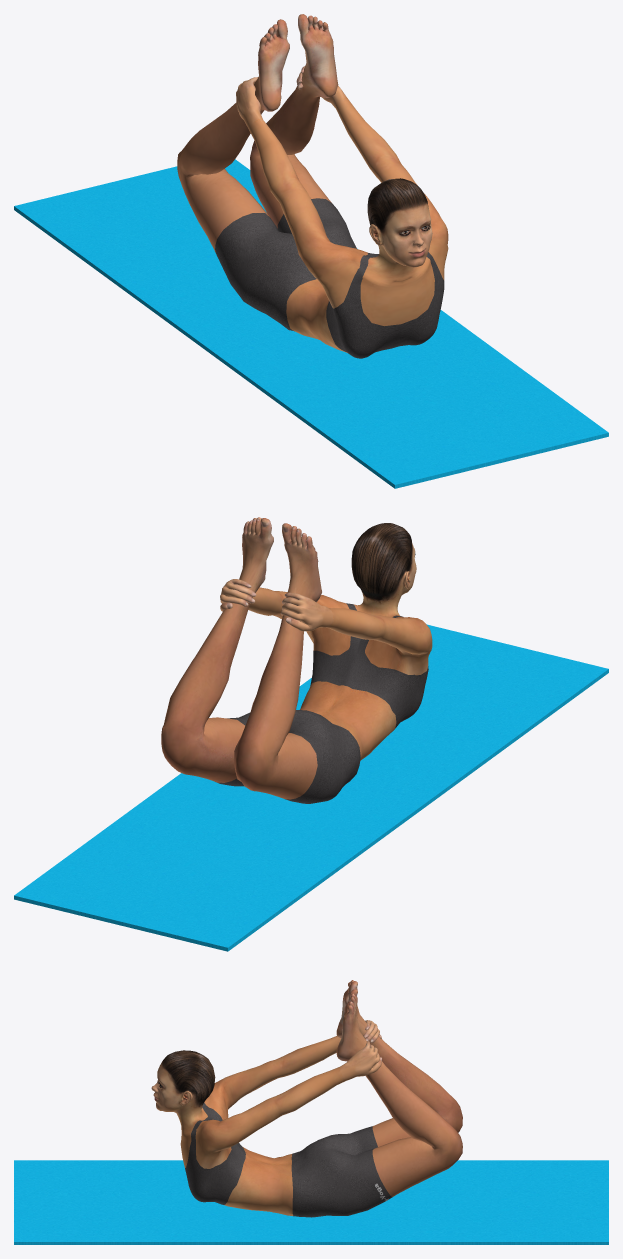
Rendered from dhanurasana.glb.
3 views of the same model, one above another, from view 1: azimuth 30°, elevation 25°; view 2: azimuth 150°, elevation 25°; view 3: azimuth 270°, elevation 25° (orthographic). The views are drawn at different scales.
Parts seen in each view (by area): view 1: Mat-one-piece_jpg-material, Lily_Texture01_06_2016_jpg-material; view 2: Mat-one-piece_jpg-material, Lily_Texture01_06_2016_jpg-material; view 3: Mat-one-piece_jpg-material, Lily_Texture01_06_2016_jpg-material.
Boxes of the visible parts, box(x1,y1,x2,y2) form: Mat-one-piece_jpg-material: box(14, 159, 608, 488); Lily_Texture01_06_2016_jpg-material: box(177, 14, 448, 358); Mat-one-piece_jpg-material: box(14, 624, 608, 951); Lily_Texture01_06_2016_jpg-material: box(161, 517, 432, 803); Mat-one-piece_jpg-material: box(14, 1160, 608, 1244); Lily_Texture01_06_2016_jpg-material: box(151, 980, 462, 1217).
Size of the model in its own units: 2 by 2.53 by 6.17.
Materials: 3 (2 with a texture image).
